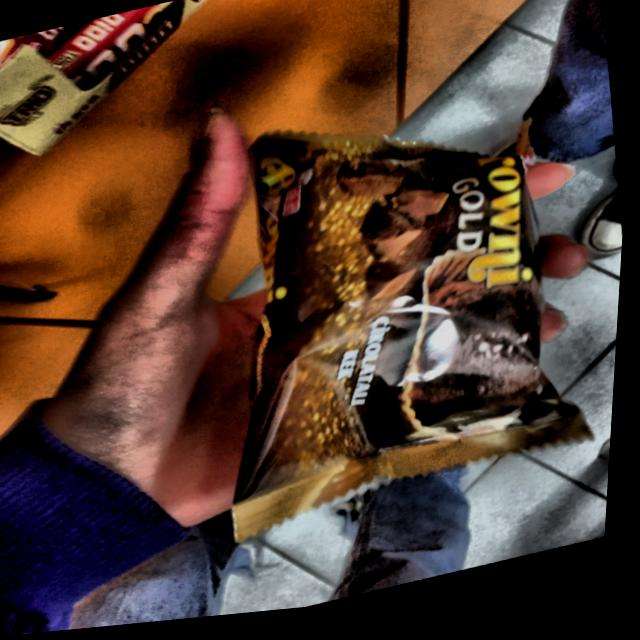Plastic: (155, 82, 634, 571)
